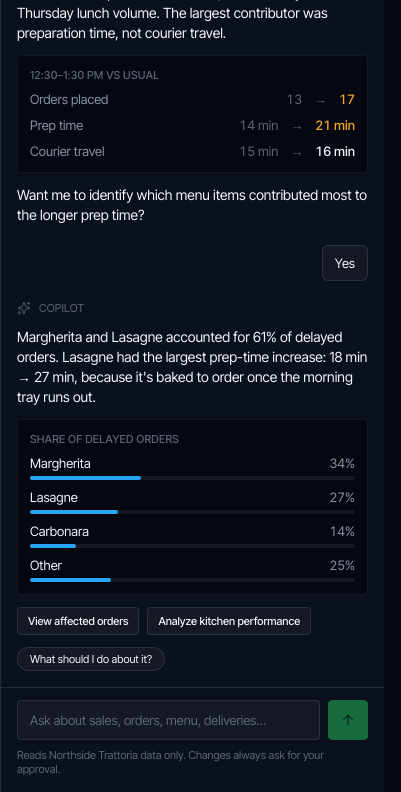
it: CopilotPanel › the send button is disabled until the composer has text
The width and height of the screenshot is (401, 792).
(page scrolled)
Check: the button named "Send" is disabled, box [328,700,368,740]
Type "Anything unusual happening today?" into the field named "Ask Copilot" at (168, 720), box [17,700,320,740]
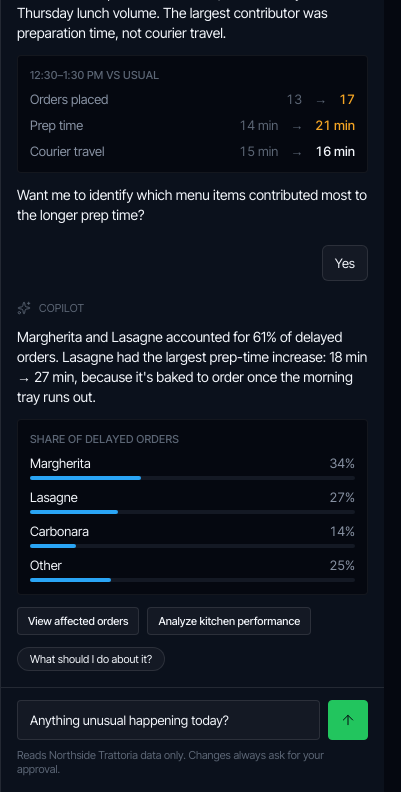
Check: the button named "Send" is enabled, box [328,700,368,740]
